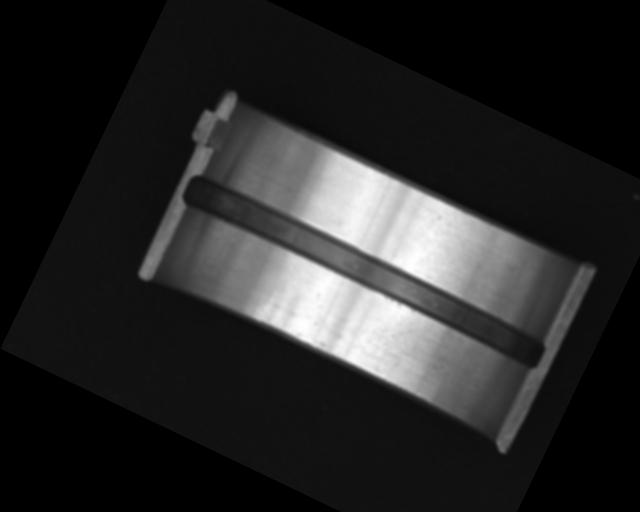gap: (175, 168, 551, 375)
